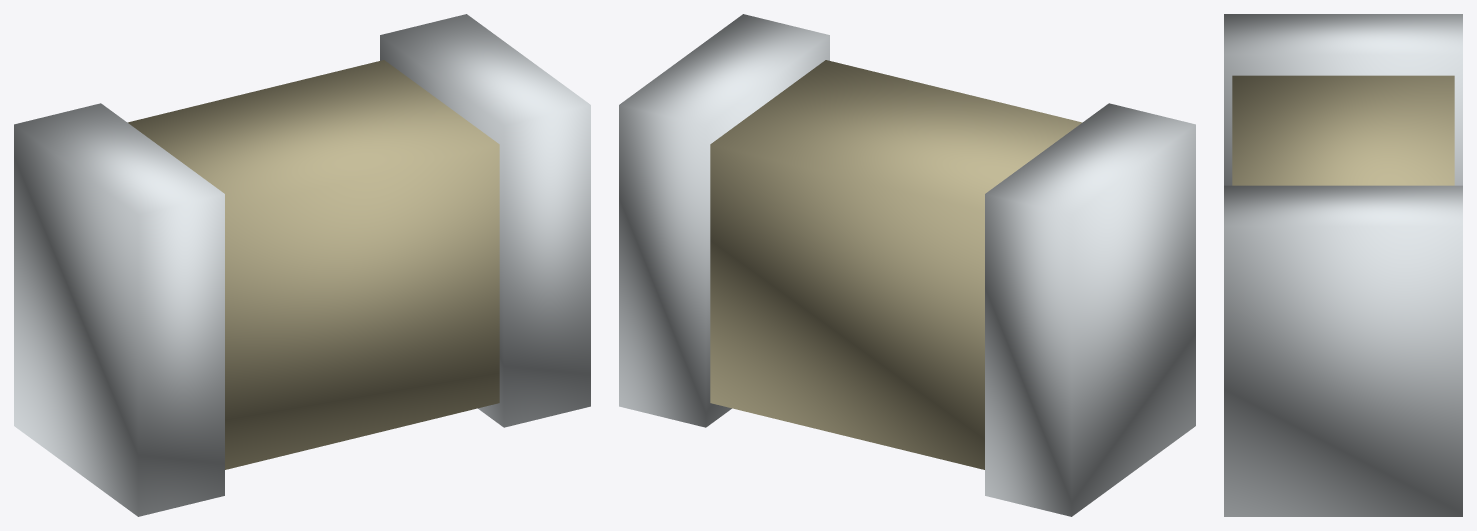
The model's file is 42_L95_C6_CounterDecoupling_100nF.fbx.
3 renders of one model, left to right at view 1: azimuth 30°, elevation 25°; view 2: azimuth 150°, elevation 25°; view 3: azimuth 270°, elevation 25°, orthographic. The views are drawn at different scales.
Parts seen in each view (by area): view 1: L95_CounterDecoupling_100nF_Part_0001, L95_CounterDecoupling_100nF_Part_0000; view 2: L95_CounterDecoupling_100nF_Part_0001, L95_CounterDecoupling_100nF_Part_0000; view 3: L95_CounterDecoupling_100nF_Part_0001, L95_CounterDecoupling_100nF_Part_0000.
Part boxes in pixels (bbox=[...]): L95_CounterDecoupling_100nF_Part_0001: bbox=[14, 14, 590, 516]; L95_CounterDecoupling_100nF_Part_0000: bbox=[127, 60, 499, 469]; L95_CounterDecoupling_100nF_Part_0001: bbox=[619, 14, 1195, 516]; L95_CounterDecoupling_100nF_Part_0000: bbox=[710, 60, 1082, 469]; L95_CounterDecoupling_100nF_Part_0001: bbox=[1224, 14, 1462, 516]; L95_CounterDecoupling_100nF_Part_0000: bbox=[1232, 75, 1454, 185].
Size of the model in its own units: 0.044 by 0.028 by 0.0209.
